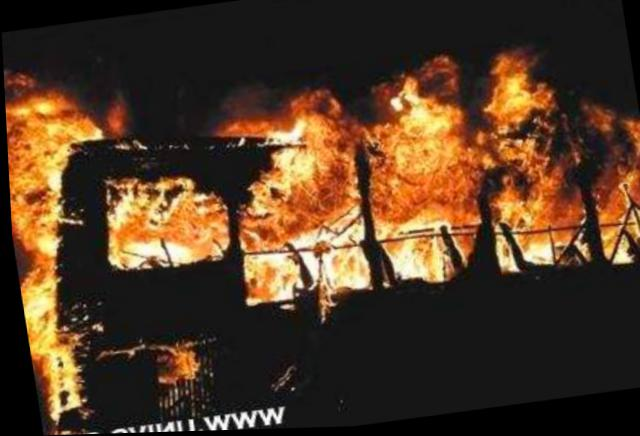fire: (0, 8, 639, 412)
